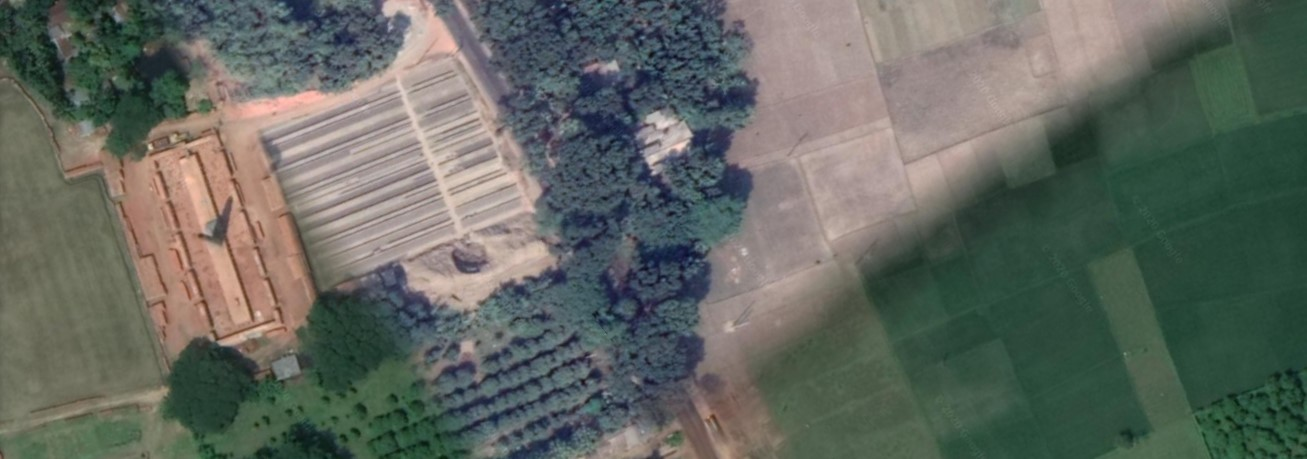kiln: (122, 161, 305, 335)
